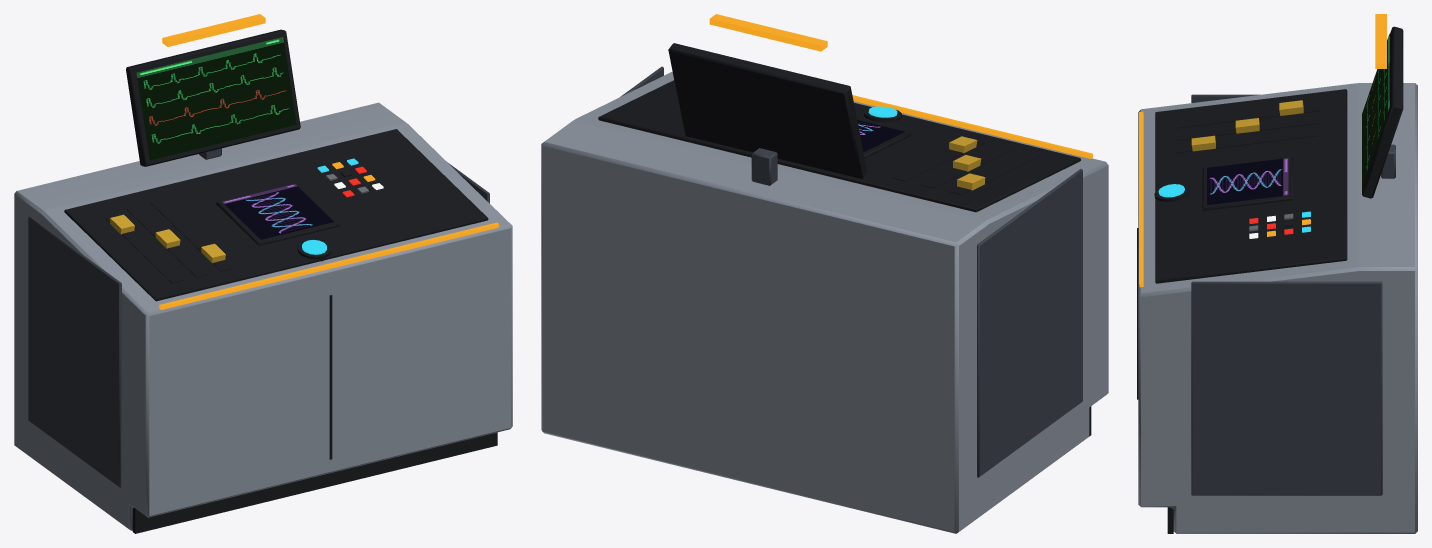
Rendered from console_transporter_control.glb.
3 renders of one model, left to right at view 1: azimuth 30°, elevation 25°; view 2: azimuth 150°, elevation 25°; view 3: azimuth 270°, elevation 25°, orthographic. The views are drawn at different scales.
Visible parts, largest first — view 1: console_transporter_control; view 2: console_transporter_control; view 3: console_transporter_control.
Boxes of the visible parts, x1,y1,x2,y2 form: console_transporter_control: (14,14,512,533); console_transporter_control: (541,14,1108,533); console_transporter_control: (1137,14,1417,533).
Bounding box in the file's own units: 1.52 × 1.51 × 0.954.
12 materials, 2 textured.
